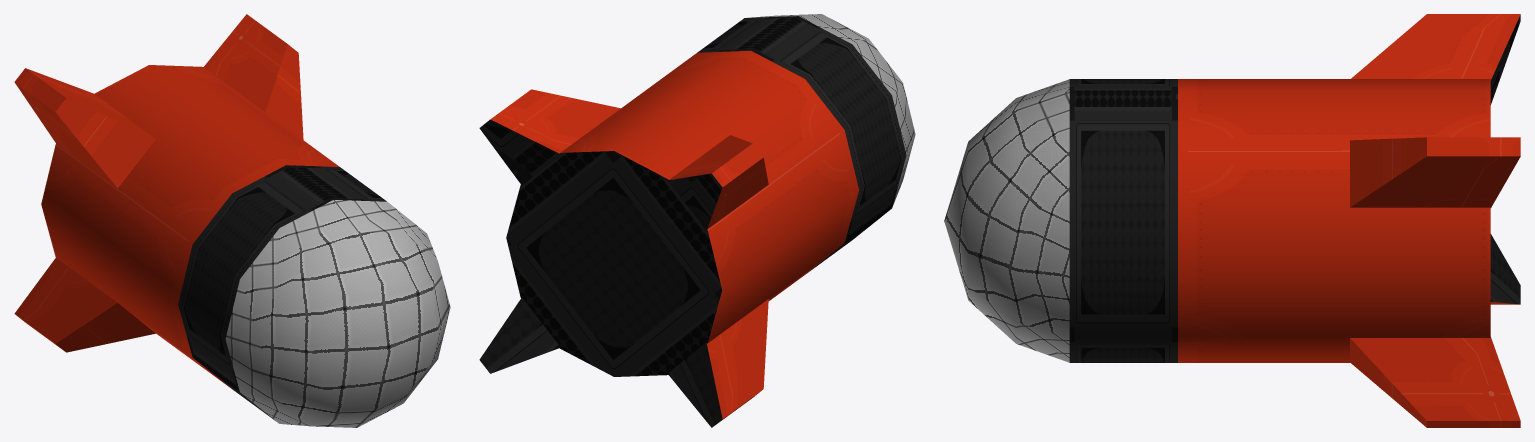
Rendered from rocket.glb.
The picture shows the model from 3 angles, left to right: view 1: azimuth 30°, elevation 25°; view 2: azimuth 150°, elevation 25°; view 3: azimuth 270°, elevation 25°; orthographic projection. The views are drawn at different scales.
Visible parts, largest first — view 1: Cylinder.002; view 2: Cylinder.002; view 3: Cylinder.002.
Part boxes in pixels (bbox=[...]): Cylinder.002: bbox=[14, 14, 450, 427]; Cylinder.002: bbox=[479, 14, 915, 427]; Cylinder.002: bbox=[944, 14, 1520, 427].
Bounding box in the file's own units: 0.6144 × 0.6144 × 1.1.
3 materials, 3 textured.
